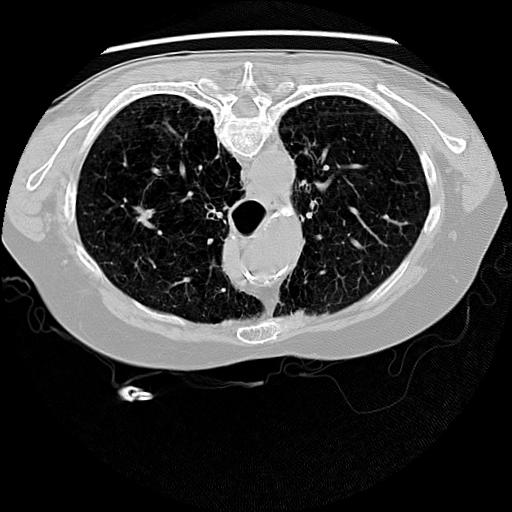nodule: (135, 207, 154, 226)
